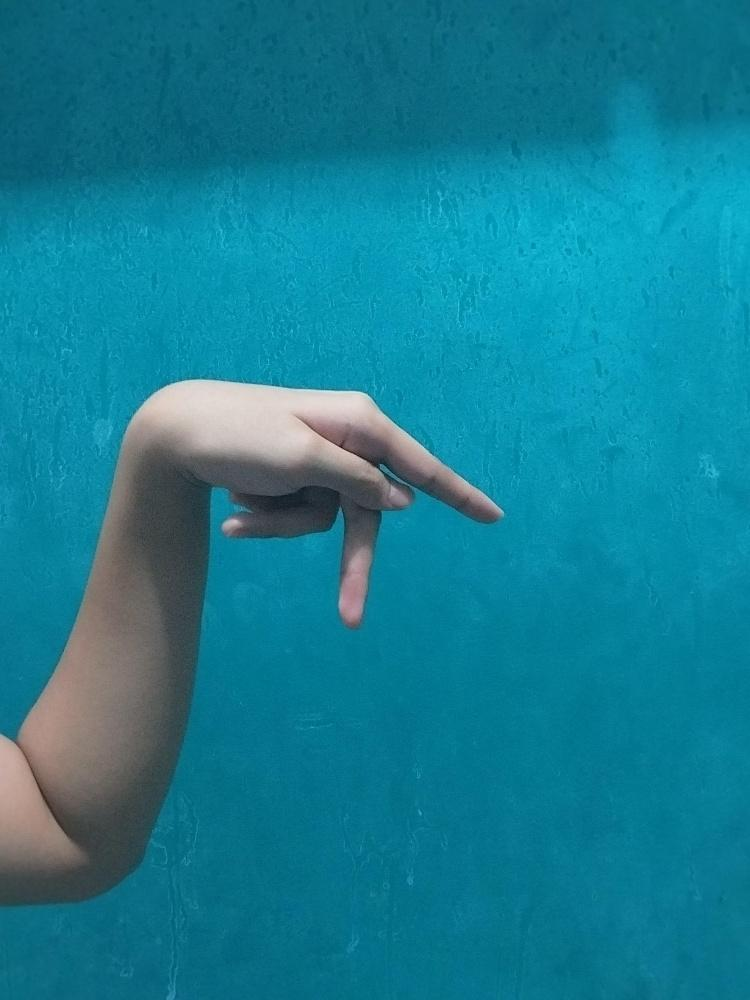p: (86, 373, 507, 628)
